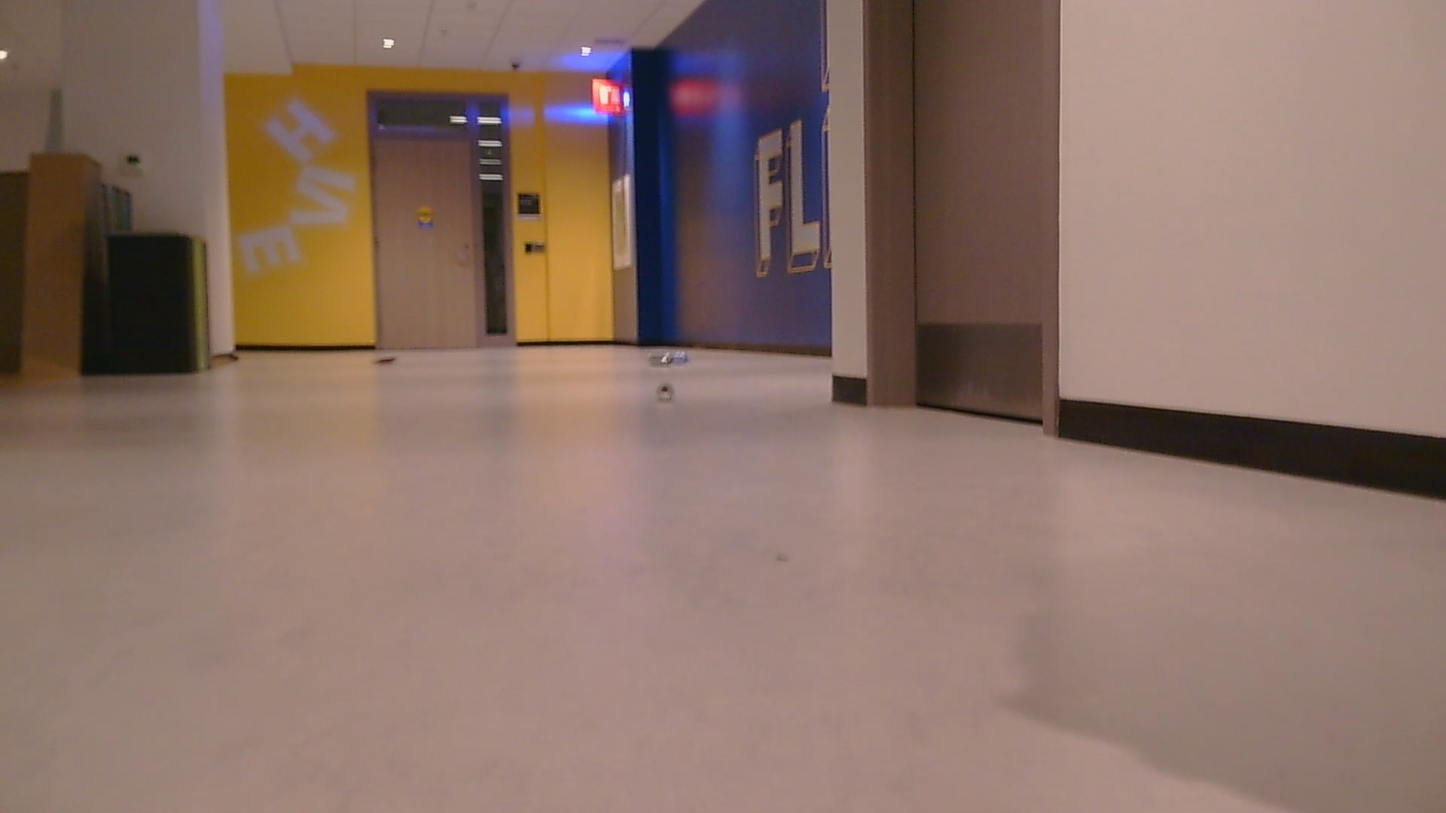carton: (363, 346, 411, 376), (648, 349, 693, 371), (658, 382, 682, 403)
